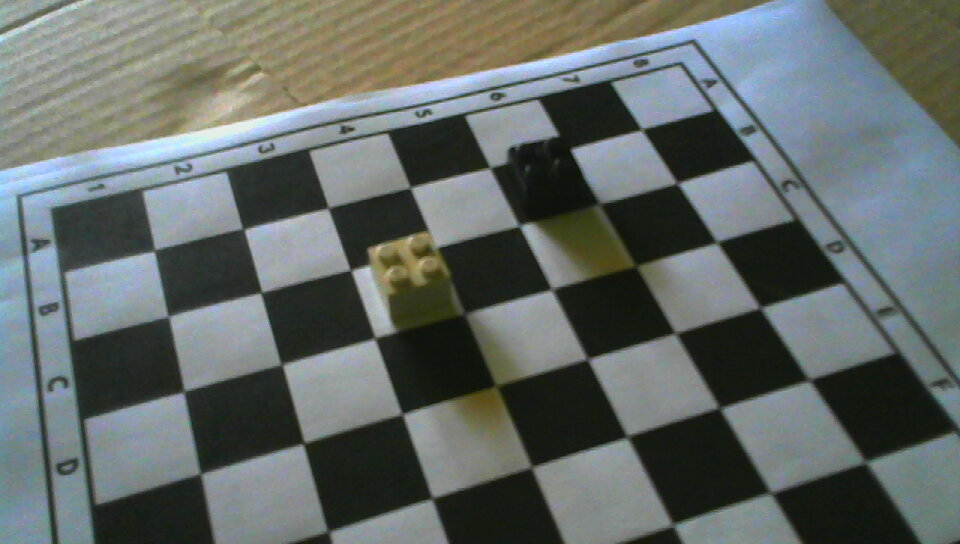bp: (507, 135, 583, 211)
wp: (366, 232, 454, 322)
